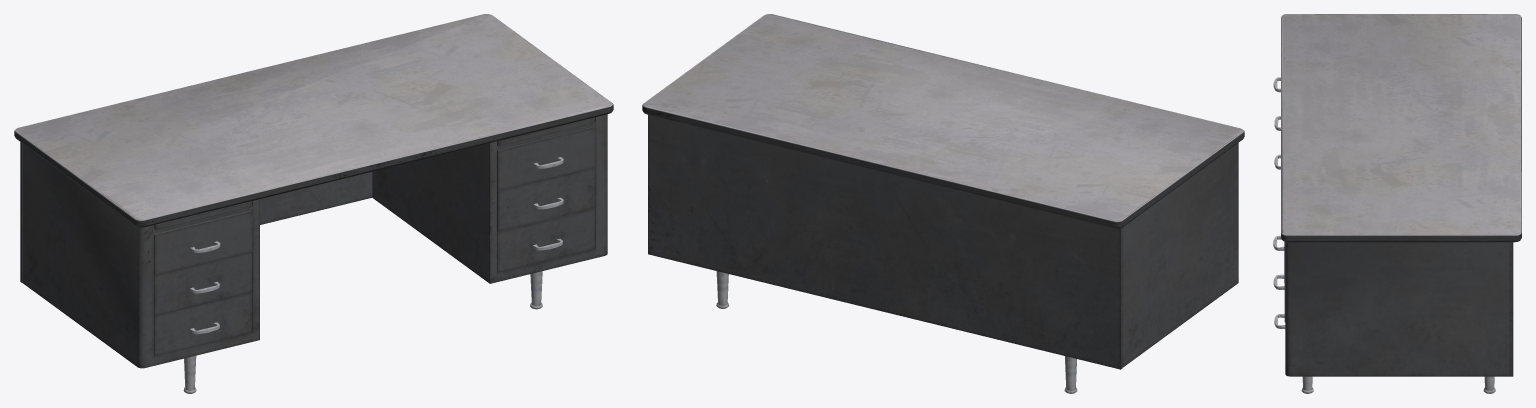
Rendered from metal_office_desk.glb.
The picture shows the model from 3 angles, left to right: view 1: azimuth 30°, elevation 25°; view 2: azimuth 150°, elevation 25°; view 3: azimuth 270°, elevation 25°; orthographic projection. The views are drawn at different scales.
Visible parts, largest first — view 1: metal_office_desk_drawer_06; view 2: metal_office_desk_drawer_06; view 3: metal_office_desk_drawer_06.
Boxes of the visible parts, x1,y1,x2,y2 form: metal_office_desk_drawer_06: [14, 14, 613, 393]; metal_office_desk_drawer_06: [642, 14, 1244, 393]; metal_office_desk_drawer_06: [1273, 14, 1521, 393].
Size of the model in its own units: 2 by 0.7874 by 0.9471.
Materials: 1 (1 with a texture image).
